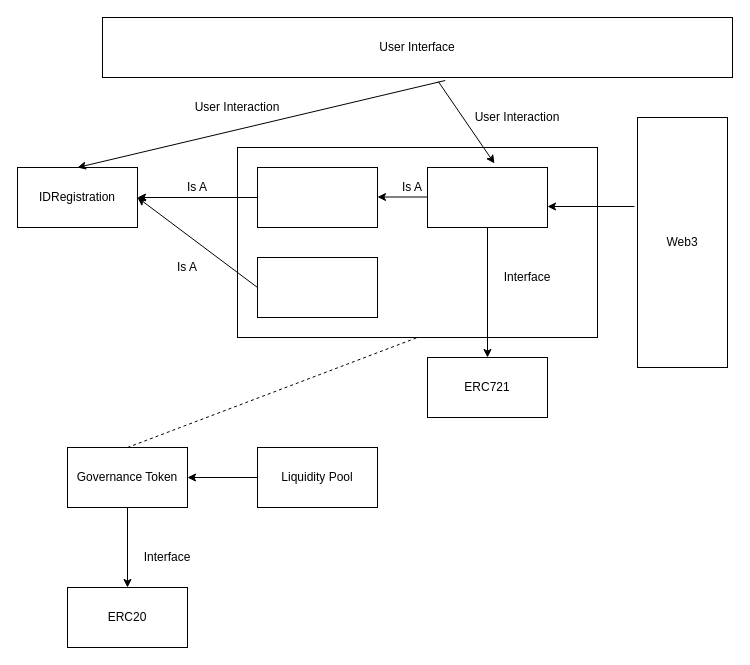
This 750x665 diagram has some shape labels left out. Each missing label, with the box of its shape:
Bidding: (256, 256, 378, 318)
MarketPlace: (256, 166, 378, 228)
NFT MarketPlace: (426, 166, 548, 228)
